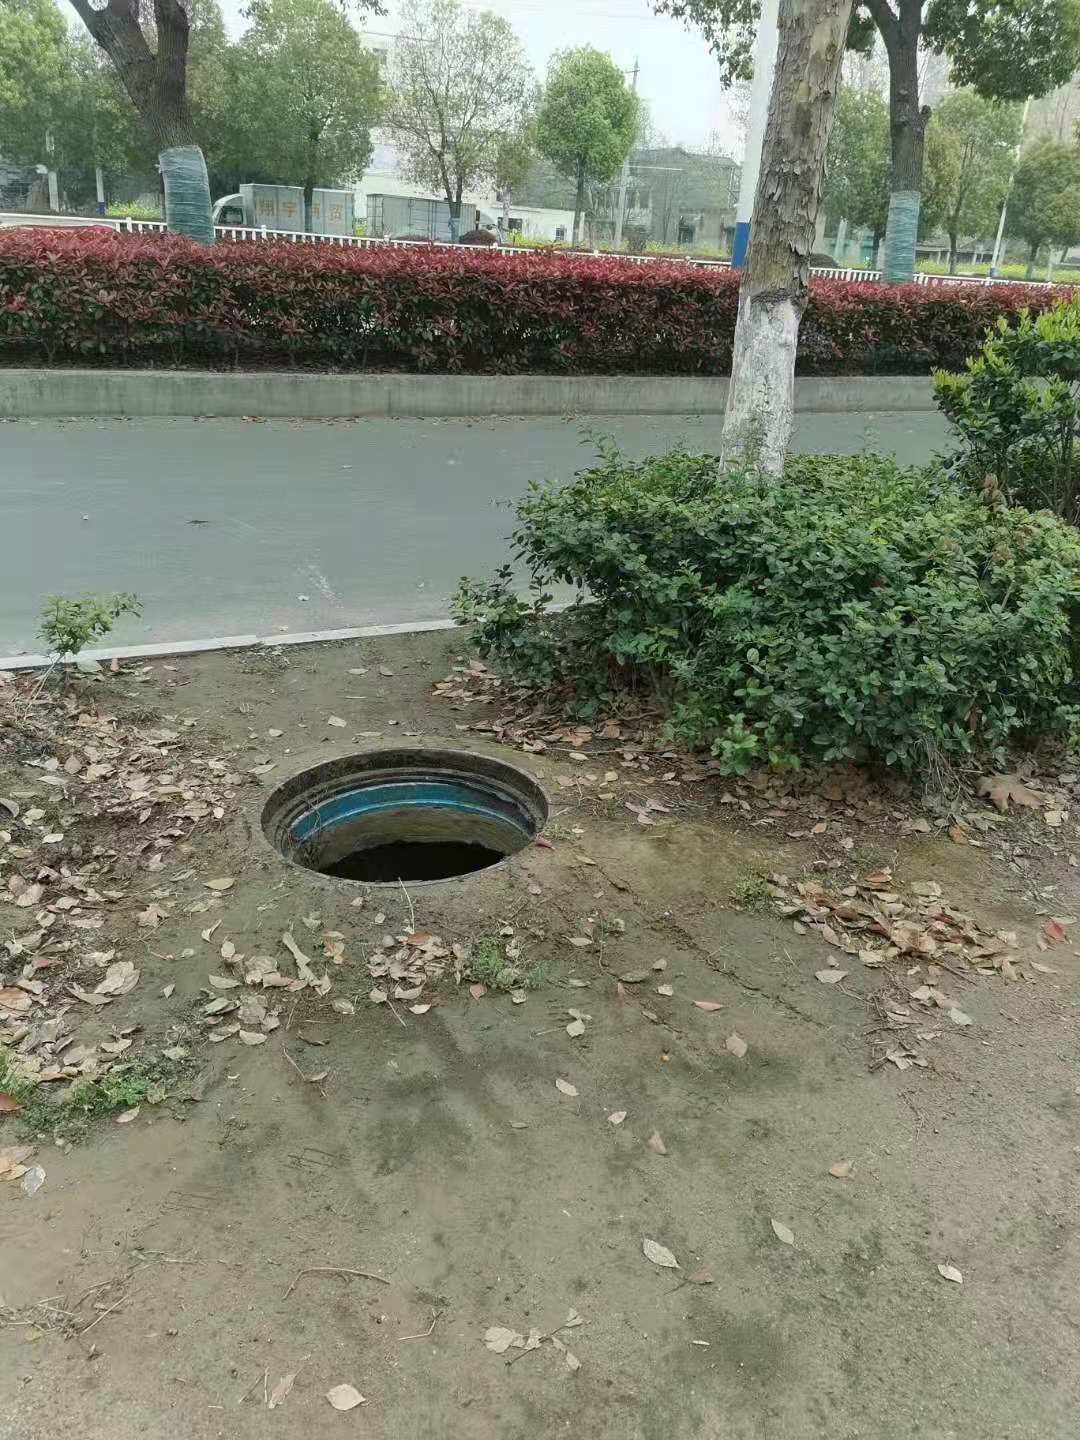well: (254, 739, 546, 889)
